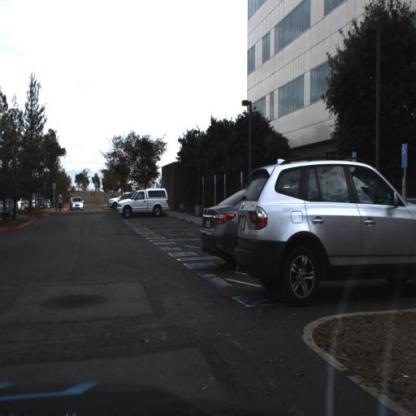car: (234, 148, 416, 317), (200, 180, 250, 272), (199, 187, 243, 271), (116, 187, 171, 224), (118, 188, 172, 222), (71, 196, 86, 214)
pedestrian: (58, 193, 64, 214), (53, 194, 58, 212)
